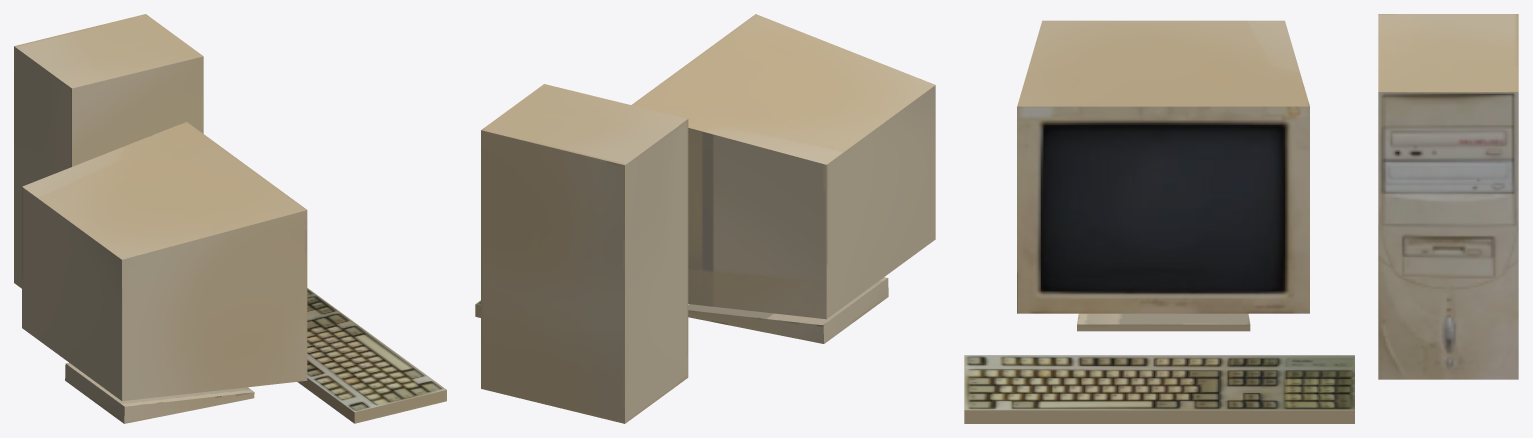
Rendered from old_computer.dae.
3 renders of one model, left to right at view 1: azimuth 30°, elevation 25°; view 2: azimuth 150°, elevation 25°; view 3: azimuth 270°, elevation 25°, orthographic. The views are drawn at different scales.
Parts seen in each view (by area): view 1: desk; view 2: desk; view 3: desk.
Part boxes in pixels (x1=…): desk: x1=14, y1=14, x2=446, y2=423; desk: x1=475, y1=14, x2=935, y2=423; desk: x1=964, y1=14, x2=1518, y2=423.
Size of the model in its own units: 2.75 by 3.72 by 2.14.
1 material, 1 textured.
